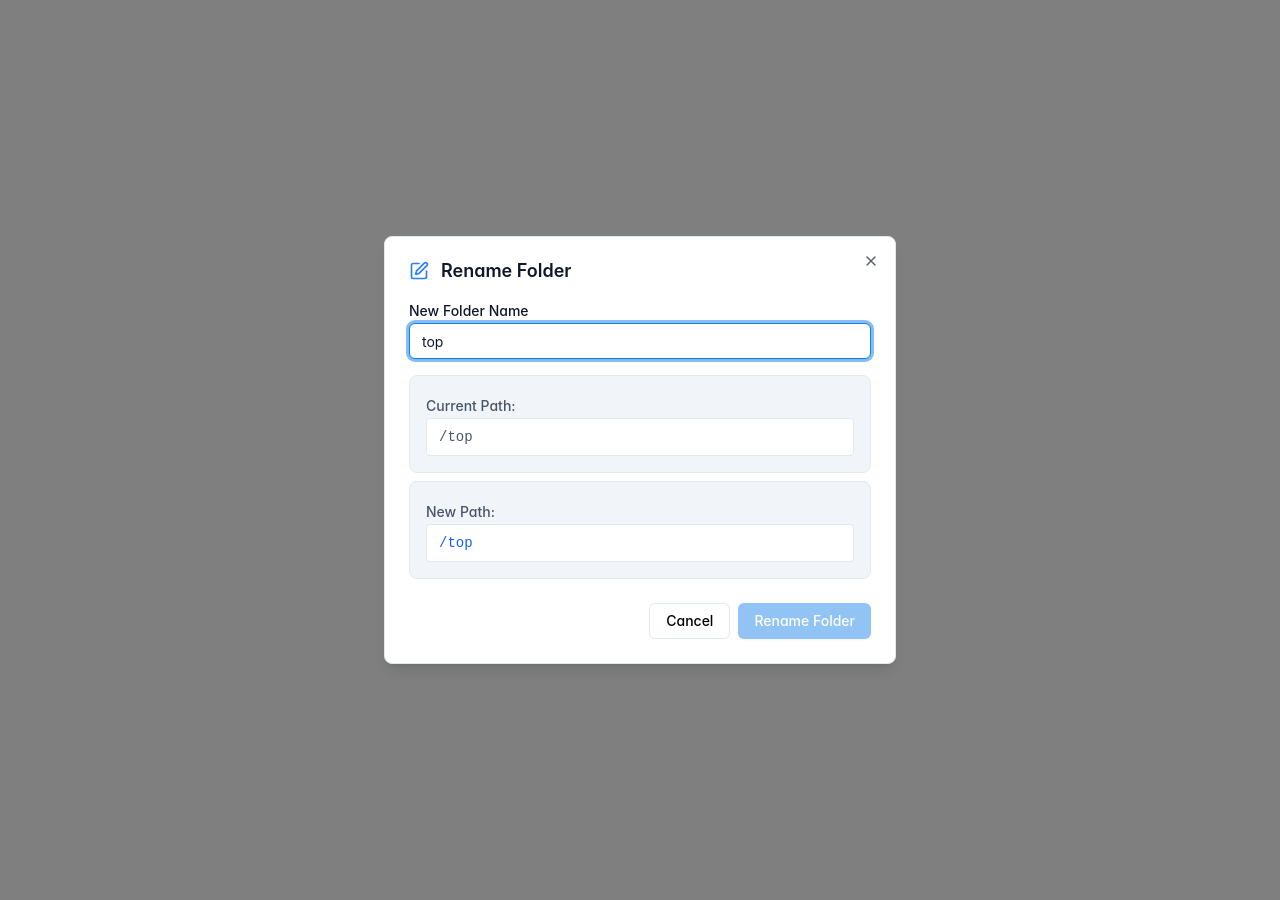
Test case: RenameFolderModal › builds the new path at the root for a top-level folder
Replace the text in the field with test id "folder-name" with "renamed" at (640, 341), box [409,323,871,359]
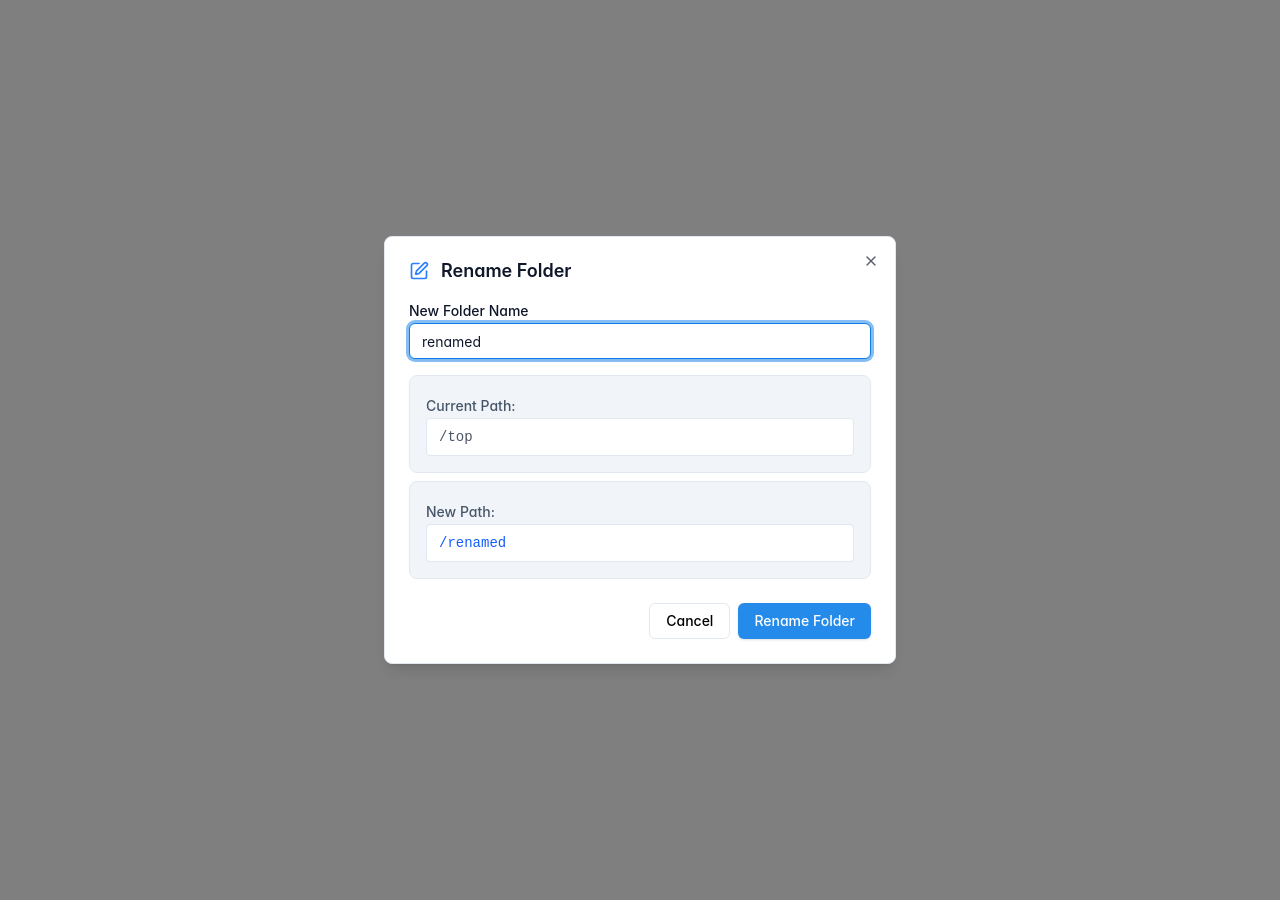
Expected: the text "/renamed" is shown, [426,524,854,562]
